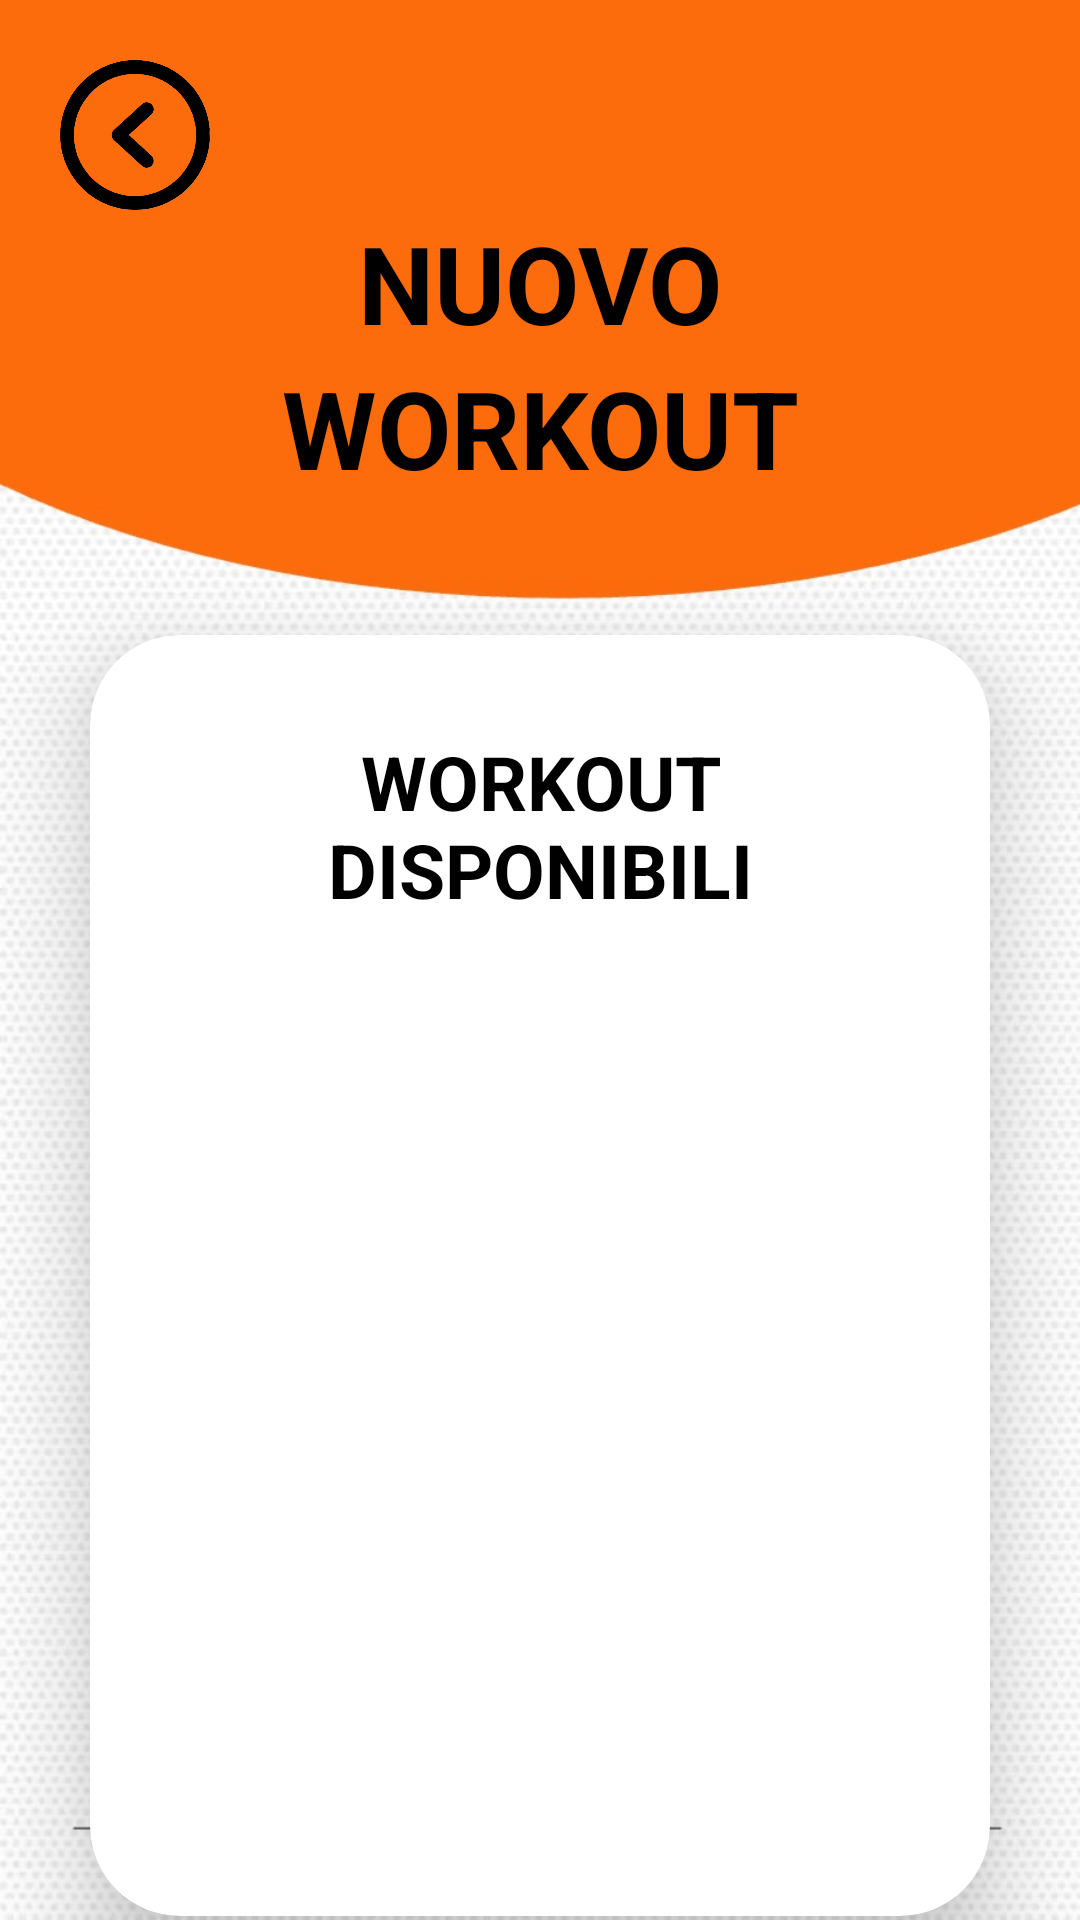

Point at icon controls on the screen. Image size 1080px x 1920px, points as (x,y).
freccia: (135,135)
